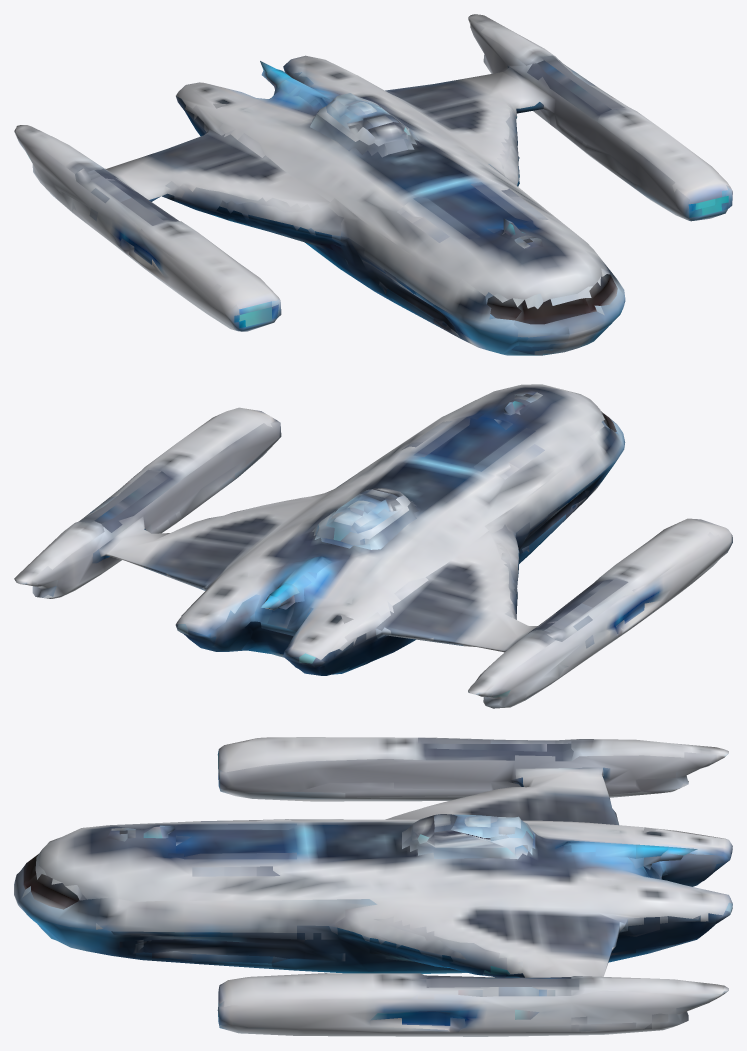
Rendered from alliance_cruiser_lod2.glb.
3 views of the same model, one above another, from view 1: azimuth 30°, elevation 25°; view 2: azimuth 150°, elevation 25°; view 3: azimuth 270°, elevation 25° (orthographic). The views are drawn at different scales.
Parts seen in each view (by area): view 1: model; view 2: model; view 3: model.
Part boxes in pixels (x1,y1,x2,y2): model: [14, 14, 732, 355]; model: [14, 384, 732, 708]; model: [14, 737, 732, 1036].
Bounding box in the file's own units: 1.64 × 0.385 × 1.88.
Materials: 1 (1 with a texture image).
